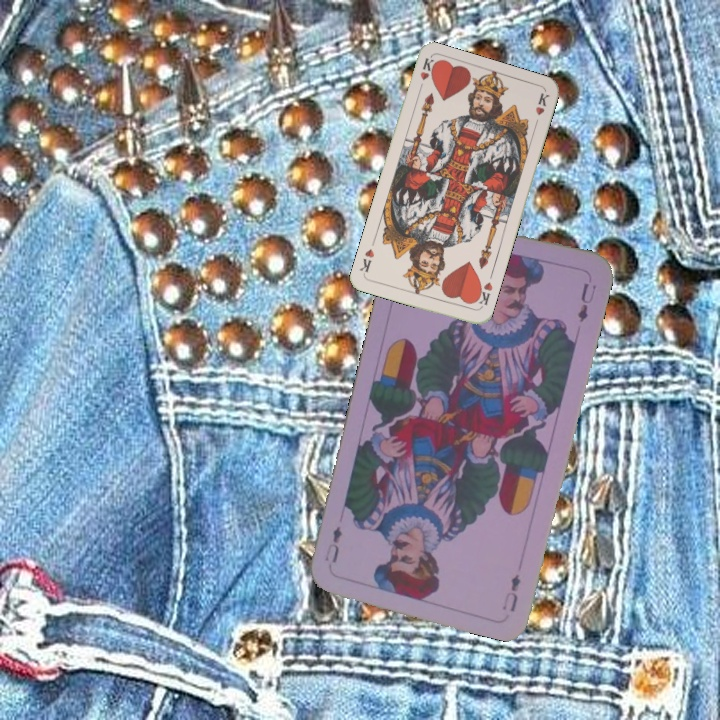EU: (498, 570, 524, 614)
HK: (415, 55, 438, 95), (471, 278, 495, 311)
